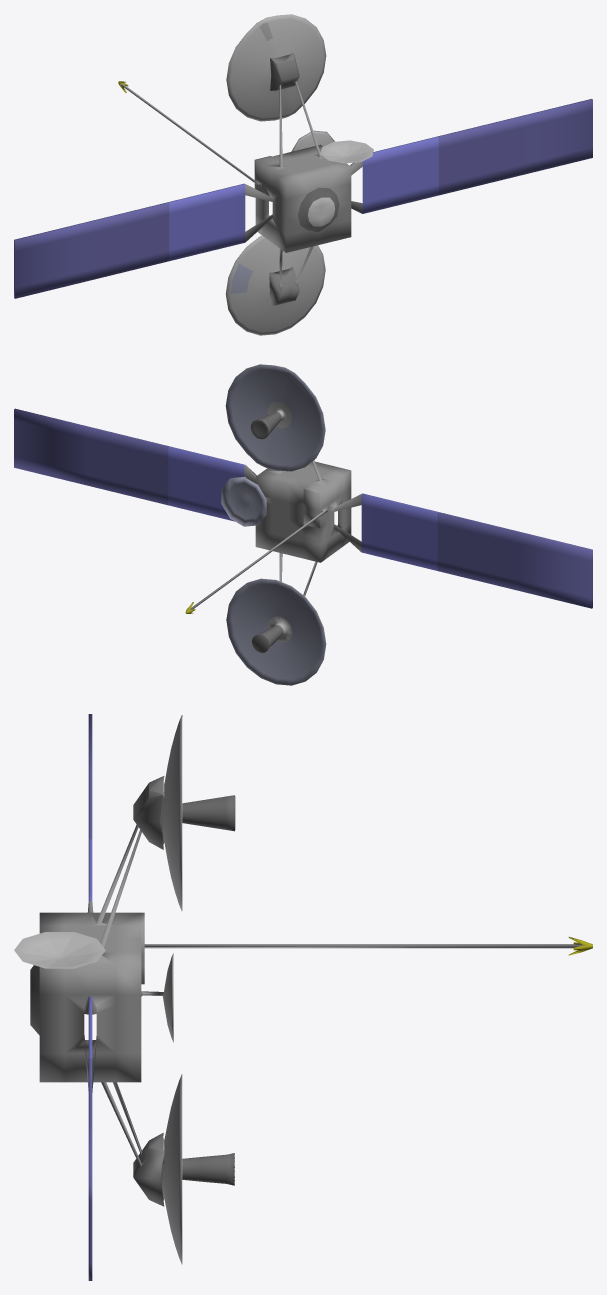
File: TDRS_A.glb
The picture shows the model from 3 angles, top to bottom: view 1: azimuth 30°, elevation 25°; view 2: azimuth 150°, elevation 25°; view 3: azimuth 270°, elevation 25°; orthographic projection. The views are drawn at different scales.
Parts seen in each view (by area): view 1: polySurface5, transform8; view 2: polySurface5; view 3: polySurface5, transform8.
Boxes of the visible parts, x1,y1,x2,y2 form: polySurface5: [14, 14, 592, 335]; transform8: [320, 140, 373, 163]; polySurface5: [14, 364, 592, 685]; polySurface5: [30, 714, 592, 1280]; transform8: [14, 932, 105, 968].
Bounding box in the file's own units: 0.8866 × 0.4676 × 0.4619.
